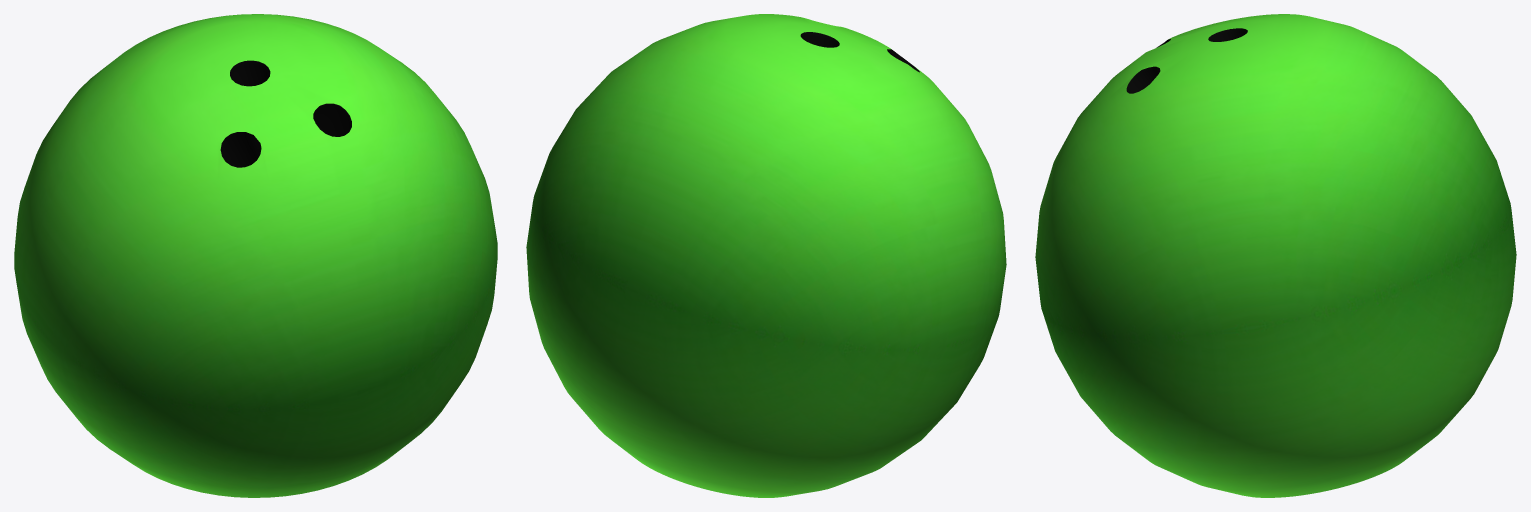
The model's file is BallT5.FBX.
3 views of the same model, side by side, from view 1: azimuth 30°, elevation 25°; view 2: azimuth 150°, elevation 25°; view 3: azimuth 270°, elevation 25° (orthographic).
Visible parts, largest first — view 1: Ball5; view 2: Ball5; view 3: Ball5.
Part boxes in pixels (x1,y1,x2,y2): Ball5: (14,14,497,497); Ball5: (526,14,1006,497); Ball5: (1035,14,1516,497).
Size of the model in its own units: 180 by 180 by 179.
